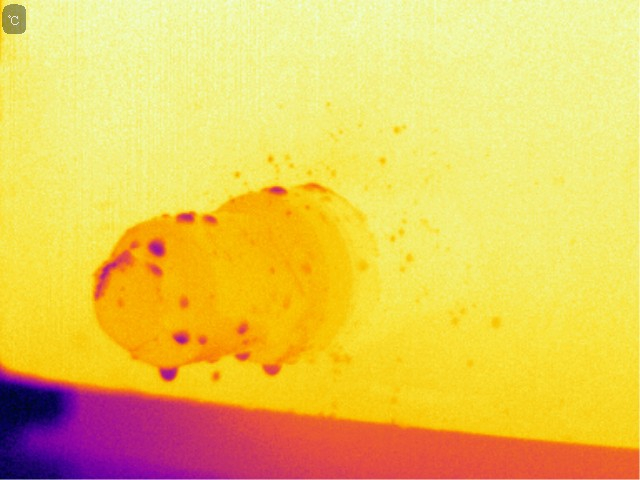Water: (152, 362, 189, 385), (145, 234, 175, 261), (165, 206, 199, 227), (258, 357, 285, 380), (169, 324, 193, 348), (262, 183, 290, 197), (485, 312, 504, 332), (205, 369, 229, 384), (232, 317, 252, 334), (201, 212, 219, 229), (174, 293, 190, 312), (232, 349, 252, 364), (196, 331, 213, 348), (302, 180, 326, 192), (148, 264, 166, 277), (378, 154, 393, 166), (402, 254, 418, 265), (391, 124, 403, 134)
